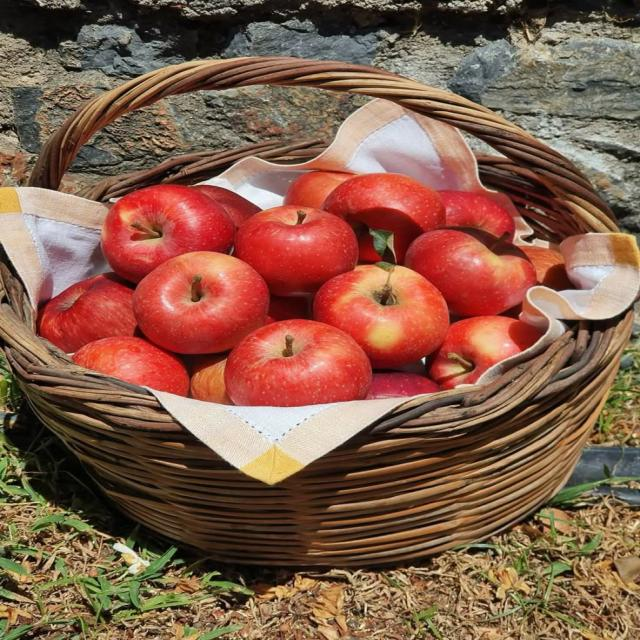apple: (314, 265, 449, 368), (134, 252, 269, 353), (101, 185, 235, 282), (225, 320, 372, 406), (406, 228, 536, 317), (234, 206, 357, 296), (323, 173, 445, 263), (429, 316, 542, 389), (38, 274, 136, 353), (73, 337, 189, 395), (439, 191, 514, 240), (192, 185, 261, 227), (283, 171, 353, 209), (520, 247, 574, 290), (190, 354, 233, 405), (366, 372, 439, 399), (266, 296, 309, 323)
